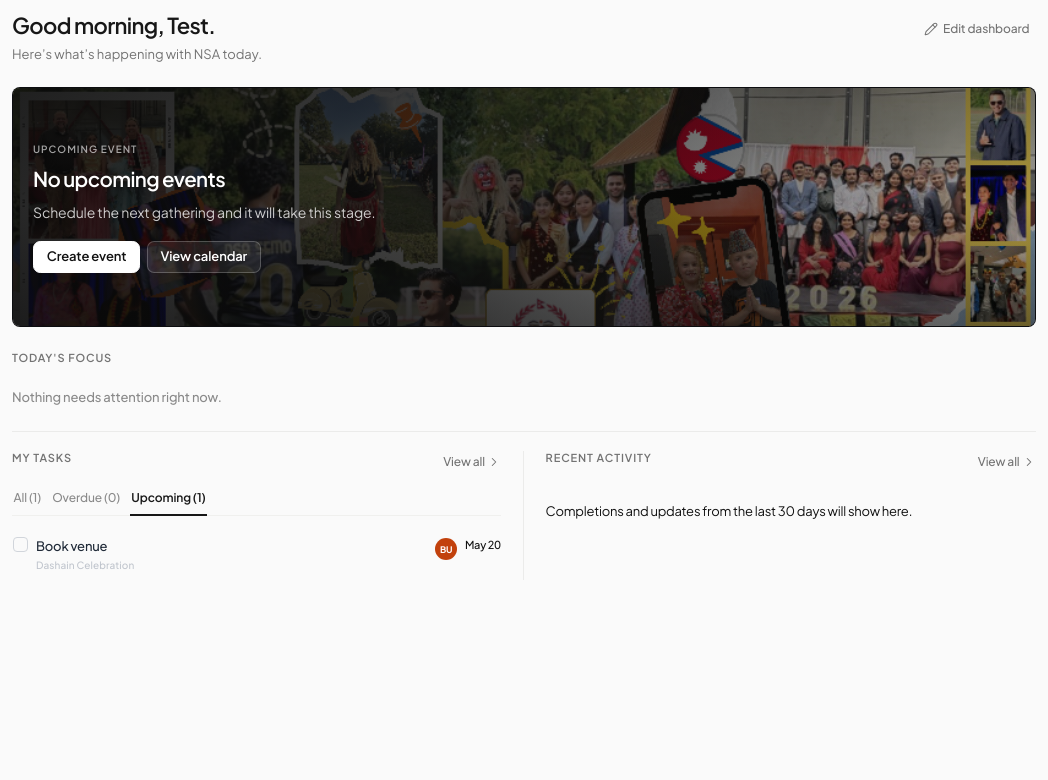
HomePage › marks a simple My Tasks row complete via status done
Expected: the text "Book venue" is shown, [36, 538, 107, 554]
Click the button named "Mark Book venue complete".
click(20, 544)  # box [13, 537, 28, 552]
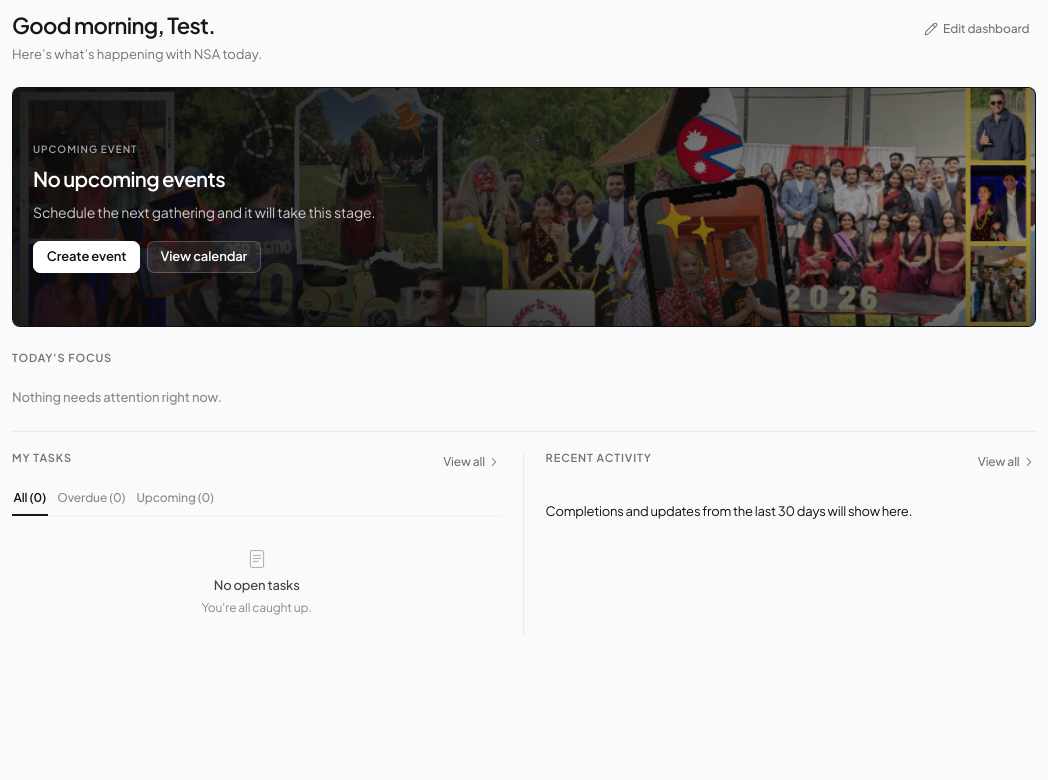
Expected: the text "Book venue" is gone
Expected: the text "No open tasks" is shown, [214, 576, 300, 595]
